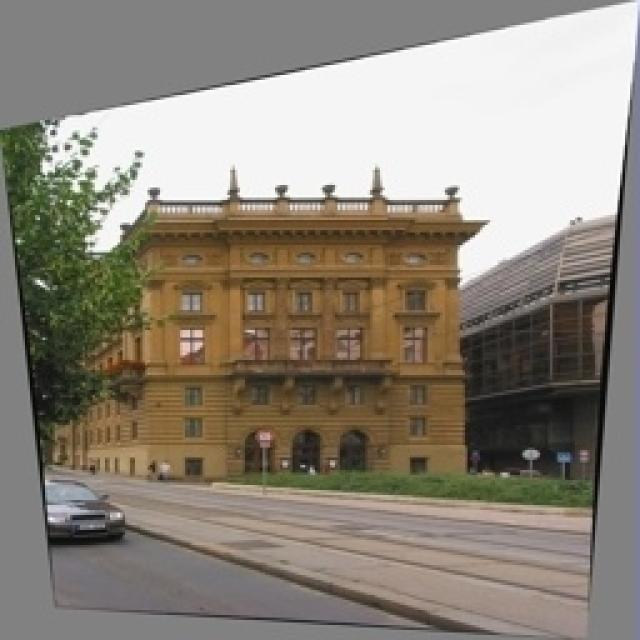building: (62, 175, 488, 497)
